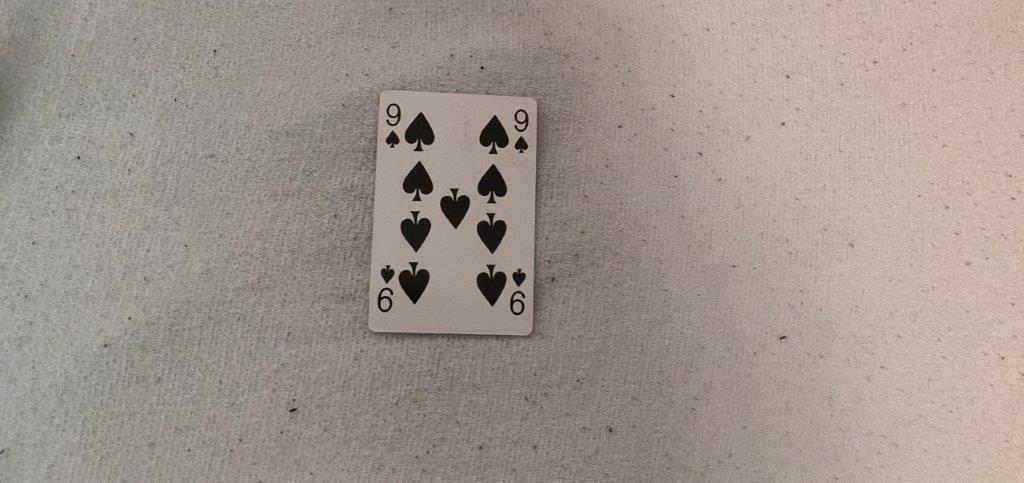9S: (510, 106, 532, 158), (382, 97, 403, 150)
